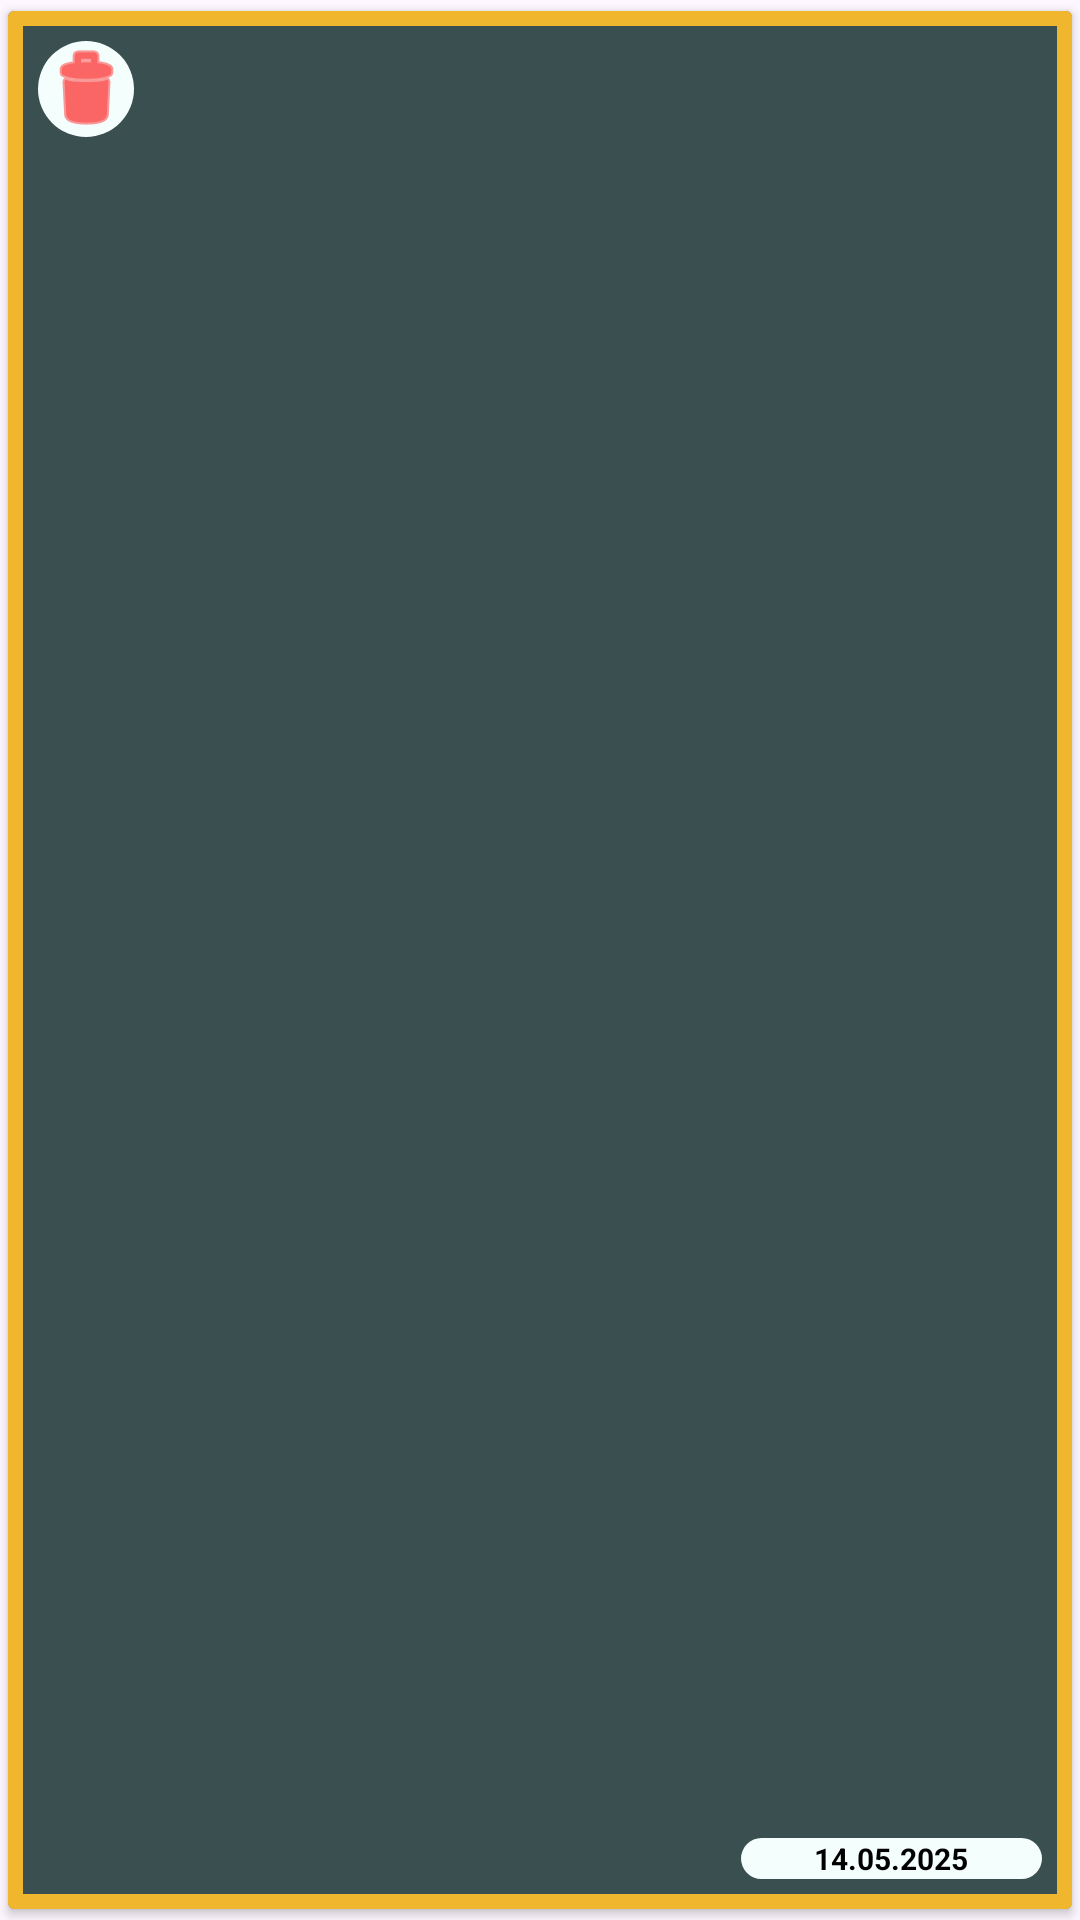

Icon bounding boxes for this 1080×1920 phone screenshot, format (x1, y1, x2, y2):
delete: (38, 41, 134, 137)
